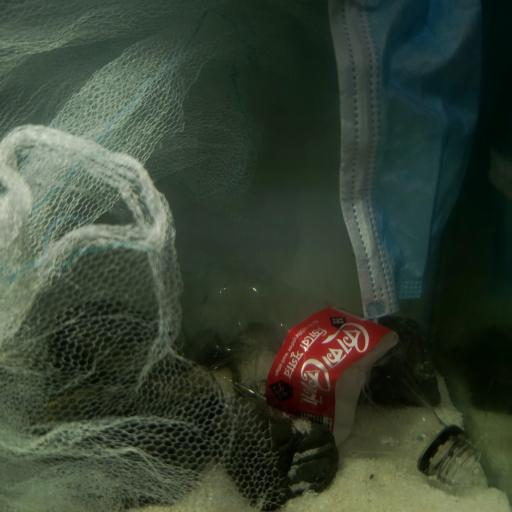mask: (327, 0, 512, 318)
net: (0, 0, 301, 512)
plastic_bottle: (182, 254, 484, 488)
